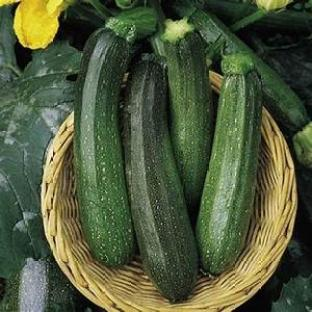Zucchini: (74, 9, 155, 266), (125, 60, 197, 301), (197, 55, 262, 275), (162, 19, 214, 218), (0, 257, 77, 311)
